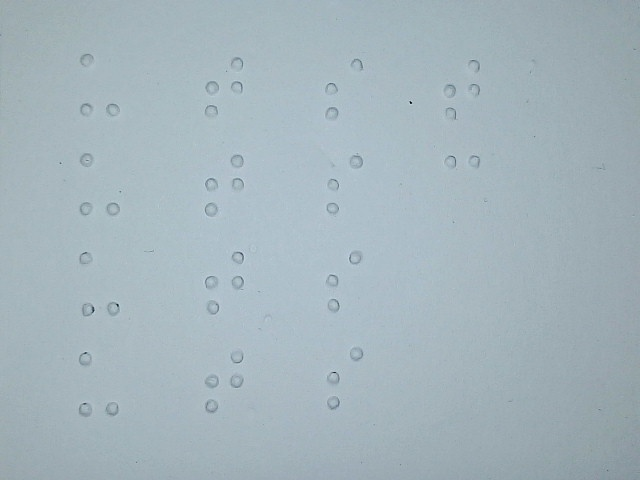S: (324, 56, 365, 120), (325, 151, 366, 215), (324, 248, 365, 312), (325, 345, 366, 409)
T: (203, 347, 245, 414), (203, 152, 245, 216), (203, 250, 245, 314), (204, 55, 245, 119)
U: (78, 249, 122, 317), (76, 349, 120, 417), (78, 52, 121, 117), (78, 151, 121, 216)
